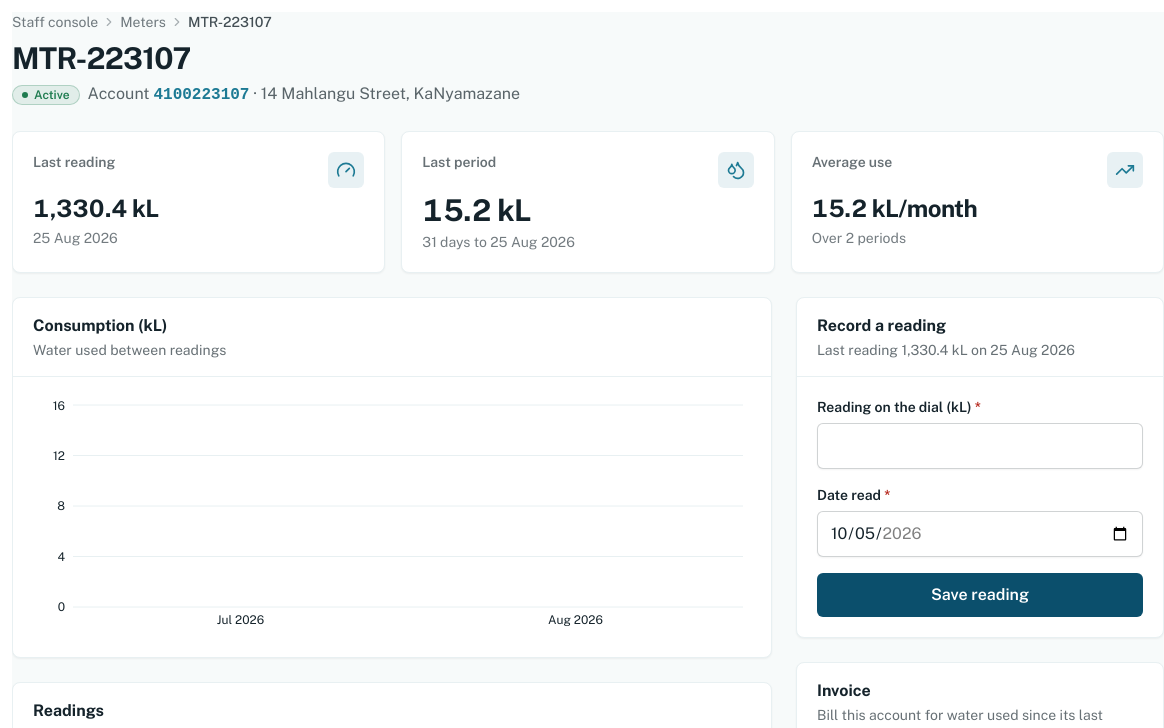
Test case: MeterDetailPage › refuses a date before the last reading
Expected: the heading "Record a reading" is shown, x1=817 y1=316 x2=946 y2=335
Type "1345.6" into the number field labelled "Reading on the dial (kL) *". click: (980, 446)
box: x1=817 y1=423 x2=1143 y2=469
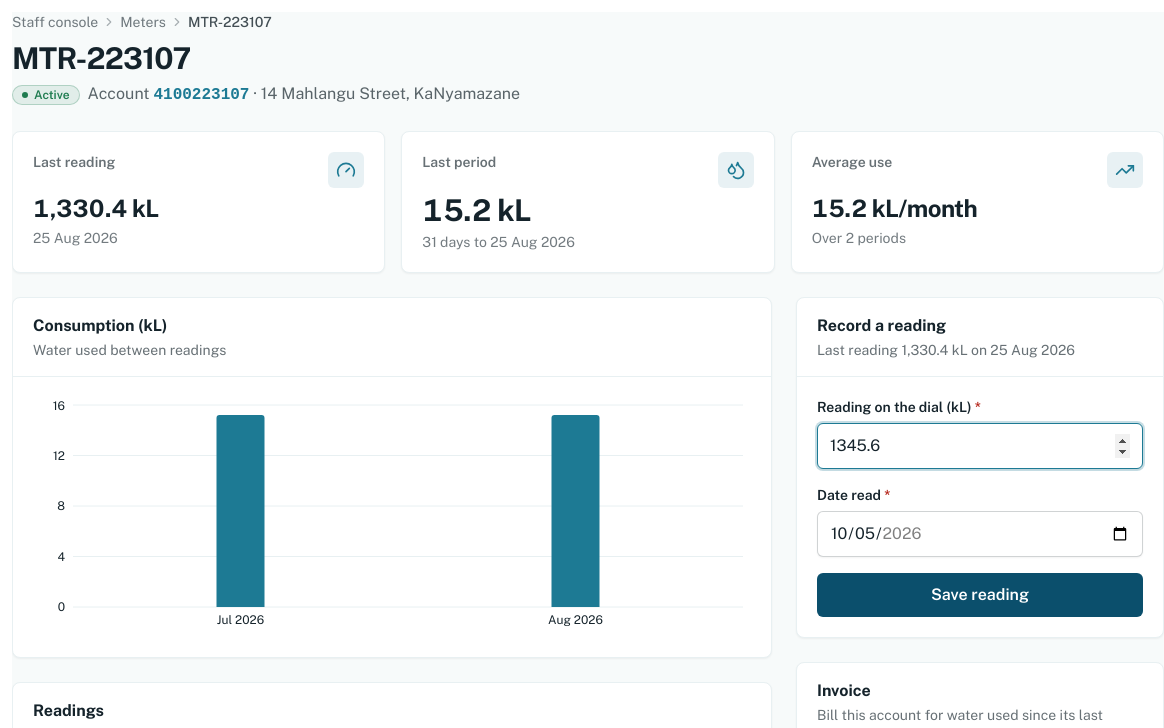
Type "2026-08-20" into the date field labelled "Date read *". click: (980, 534)
box: x1=817 y1=511 x2=1143 y2=557
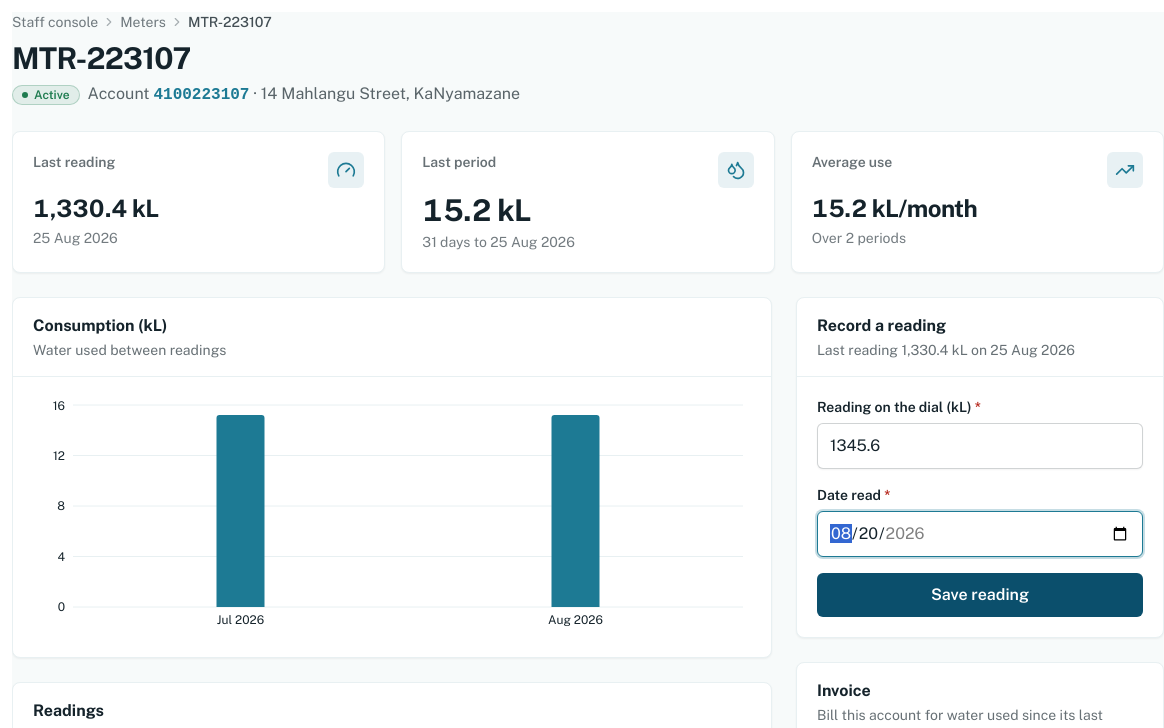
Click the button "Save reading". click: (980, 595)
box: x1=817 y1=573 x2=1143 y2=617
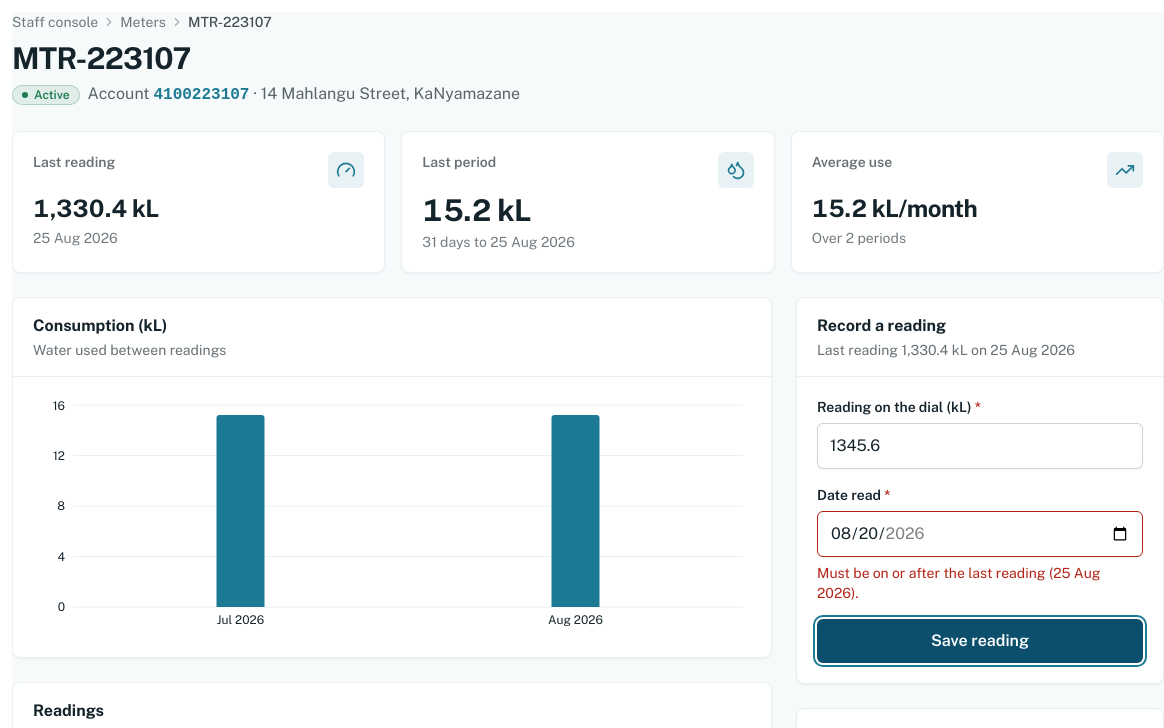
Result: the text "Must be on or after the last reading (25 Aug 2026)." is shown at x1=817 y1=563 x2=1143 y2=603
